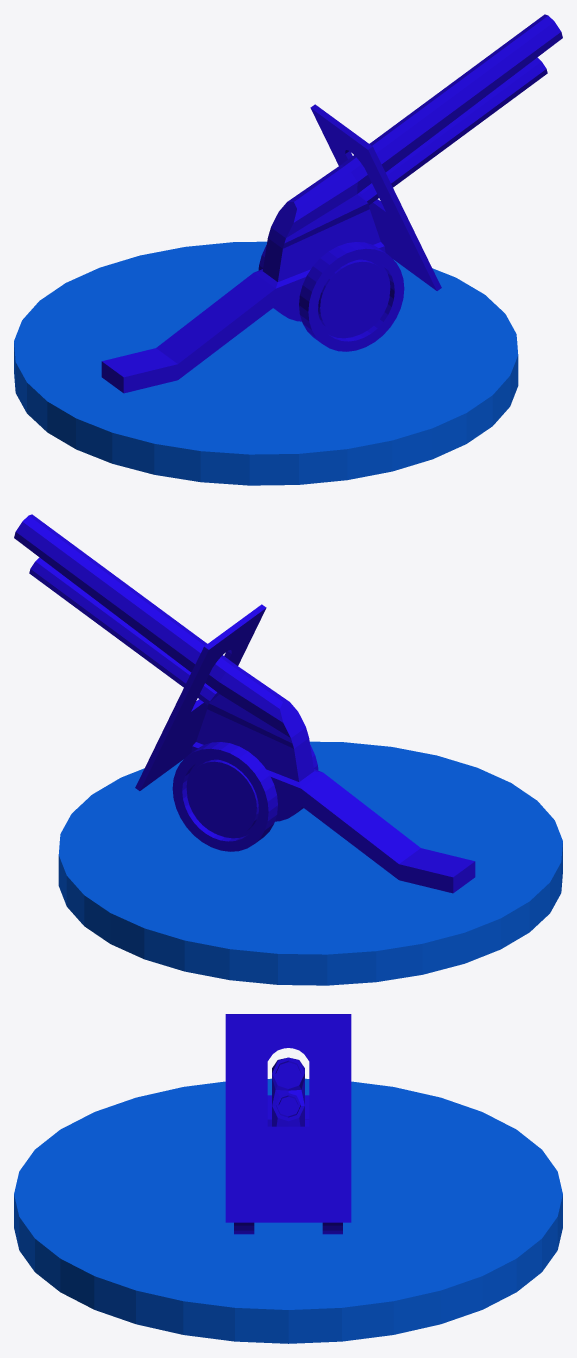
The model's file is artilleryBlue.fbx.
3 renders of one model, top to bottom at view 1: azimuth 30°, elevation 25°; view 2: azimuth 150°, elevation 25°; view 3: azimuth 270°, elevation 25°, orthographic. The views are drawn at different scales.
Visible parts, largest first — view 1: artilleryBlue; view 2: artilleryBlue; view 3: artilleryBlue.
Part boxes in pixels (x1=…): artilleryBlue: x1=14, y1=14, x2=562, y2=485; artilleryBlue: x1=14, y1=514, x2=562, y2=985; artilleryBlue: x1=14, y1=1014, x2=562, y2=1343.
Size of the model in its own units: 180 by 99.01 by 154.
